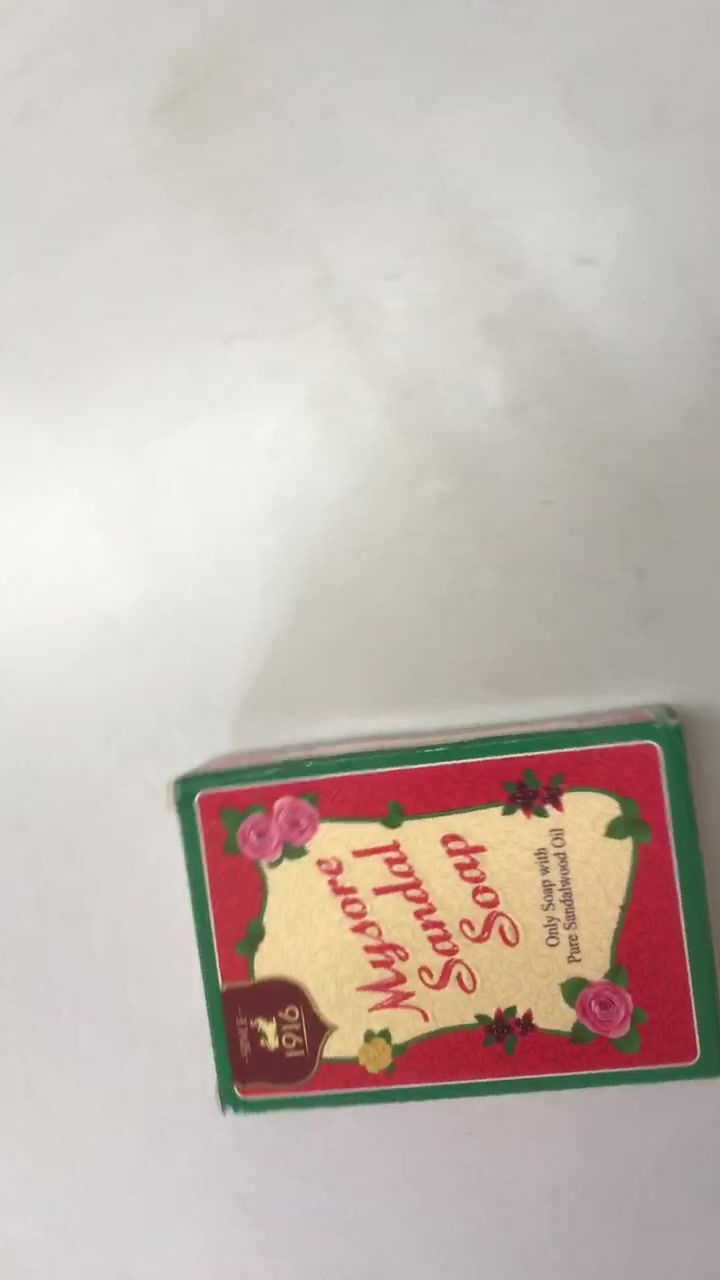mysore sandal soap: (180, 702, 720, 1113)
